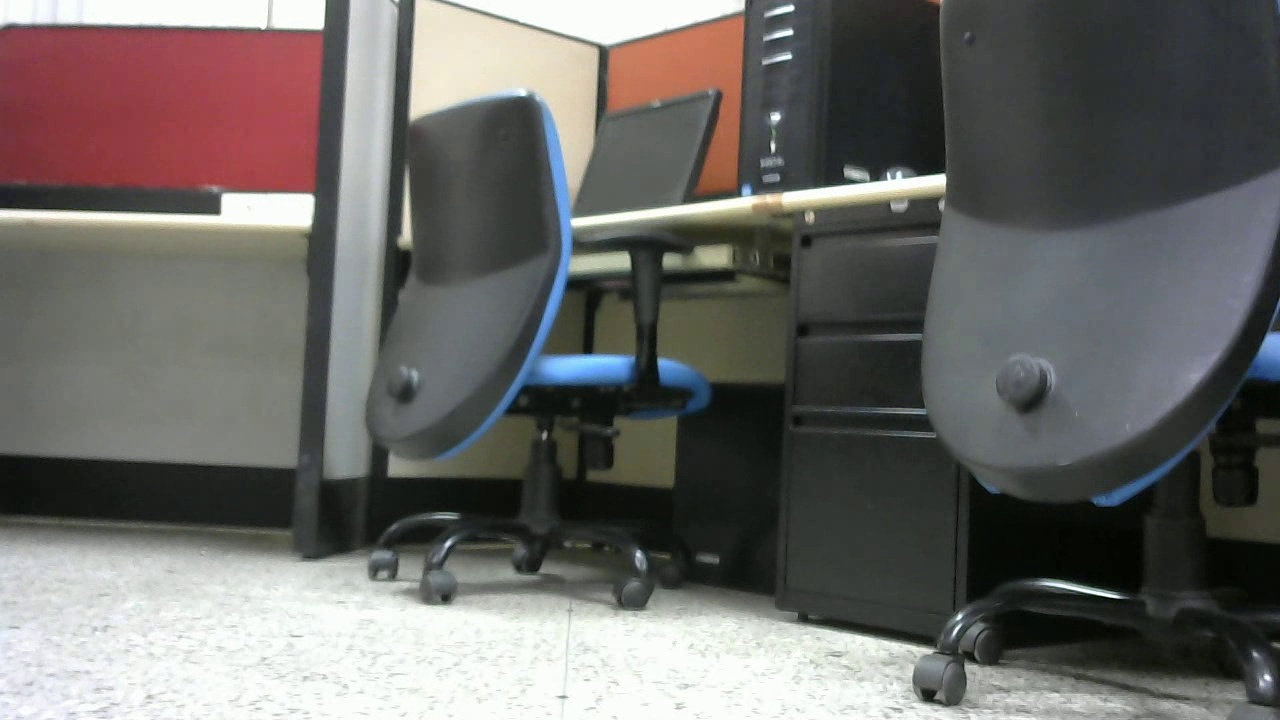chair: (355, 84, 714, 612)
